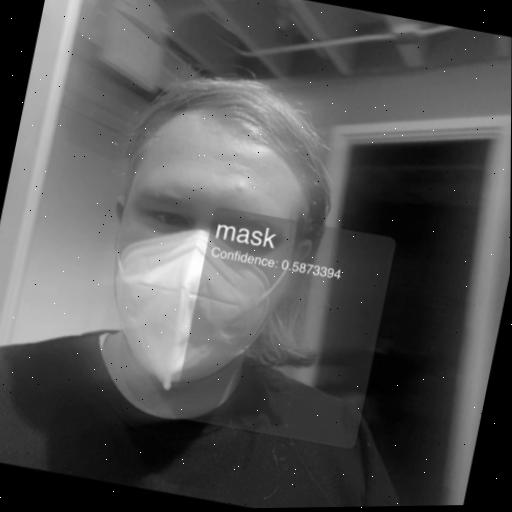mask: (54, 58, 377, 461)
